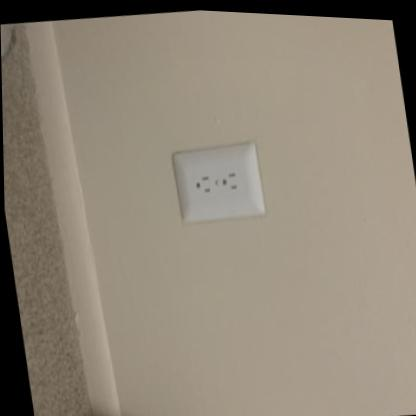OUTLET: (169, 137, 266, 229)
